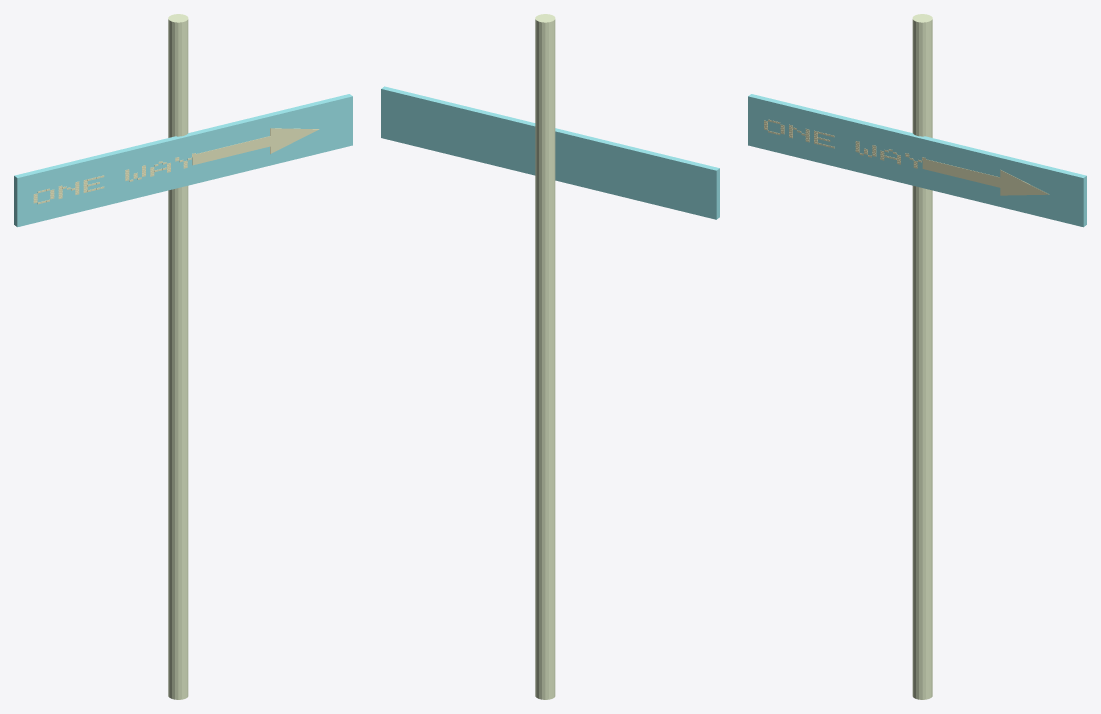
The model's file is sign_one_way_text_right.glb.
The picture shows the model from 3 angles, left to right: view 1: azimuth 30°, elevation 25°; view 2: azimuth 150°, elevation 25°; view 3: azimuth 330°, elevation 25°; orthographic projection.
Visible parts, largest first — view 1: plate_base_00, pole, layer_1_00, layer_1_01; view 2: plate_base_00, pole; view 3: plate_base_00, pole, layer_1_00, layer_1_01.
Part boxes in pixels (box(x1,y1,x2,y2)): plate_base_00: box(14, 94, 352, 227); pole: box(168, 14, 188, 699); layer_1_00: box(192, 136, 270, 165); layer_1_01: box(270, 128, 319, 153); plate_base_00: box(381, 86, 719, 219); pole: box(535, 14, 555, 699); plate_base_00: box(748, 94, 1086, 227); pole: box(912, 14, 932, 699); layer_1_00: box(922, 158, 1000, 187); layer_1_01: box(1000, 170, 1049, 195).
Bounding box in the file's own units: 1.14 × 2.2 × 0.071.
